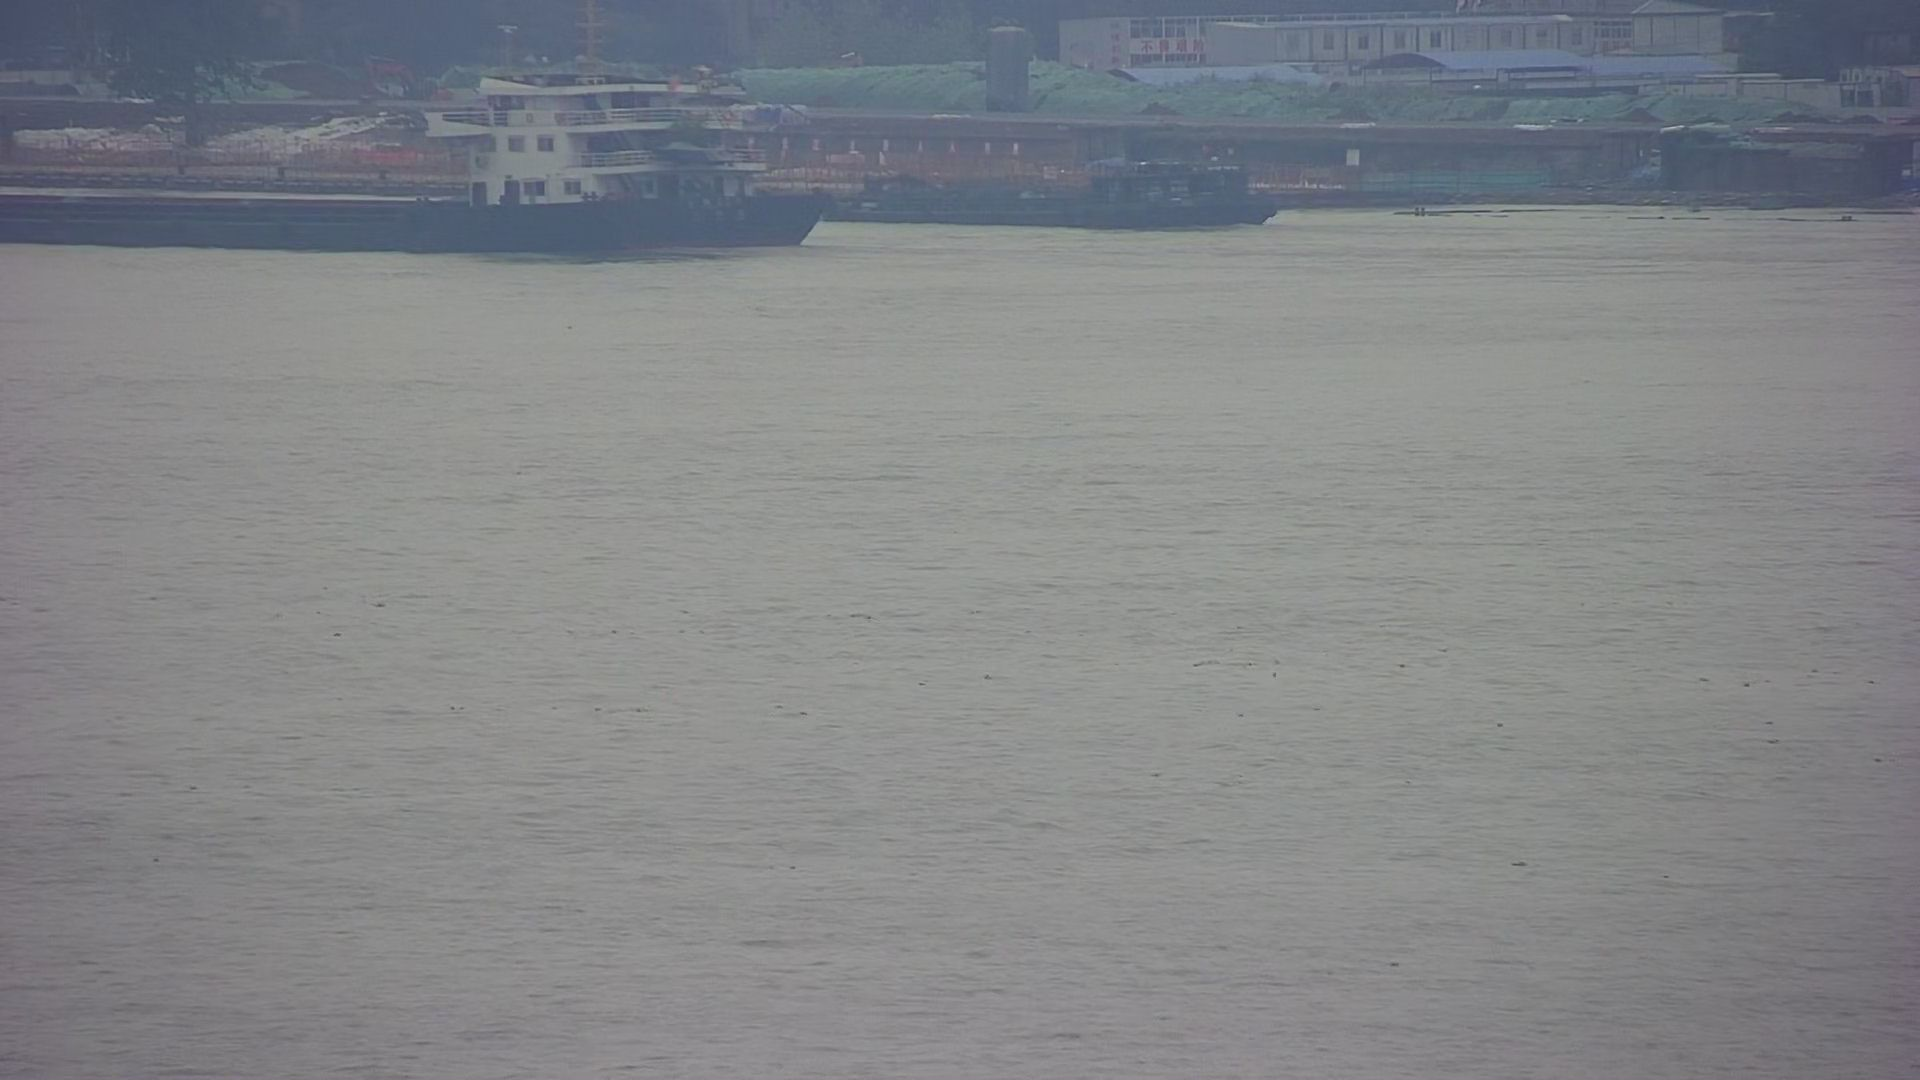ship: (1, 49, 833, 249), (825, 154, 1283, 233)
